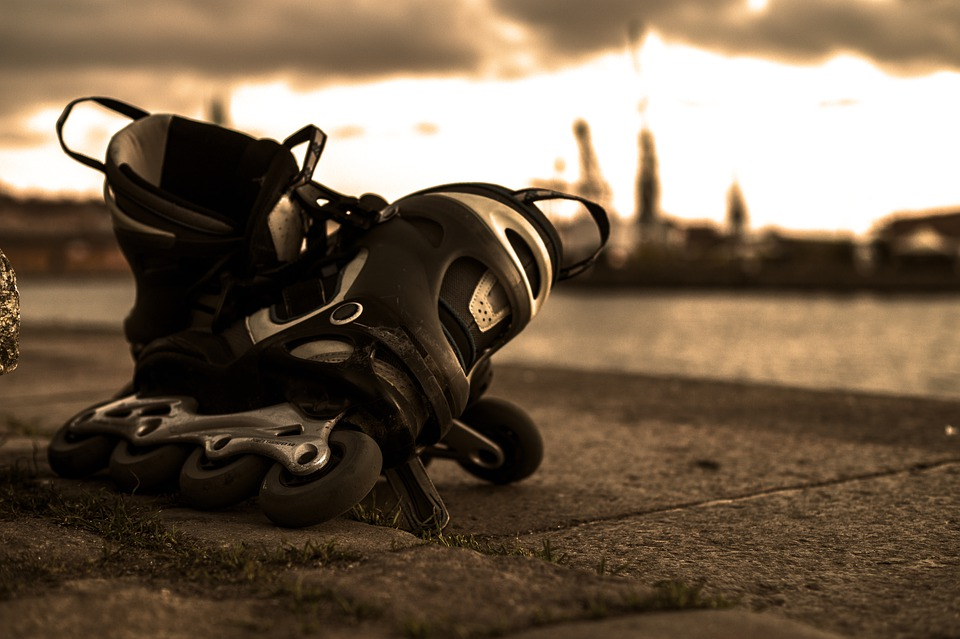roller_blade: (75, 117, 542, 494)
